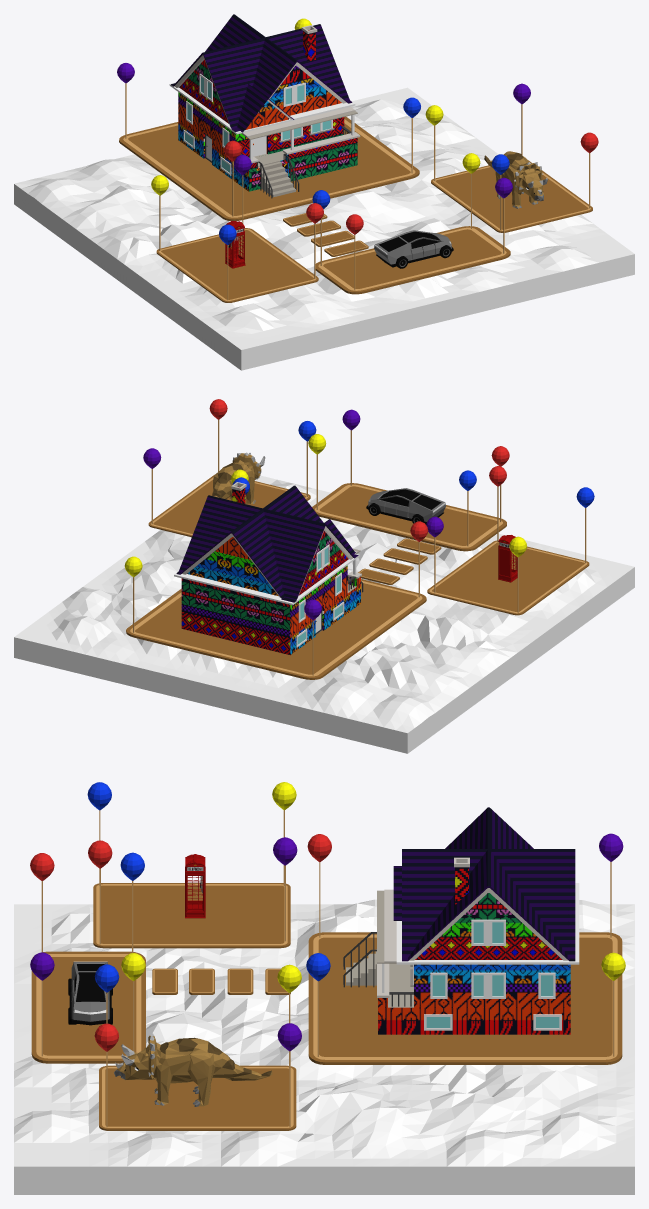
The picture shows the model from 3 angles, top to bottom: view 1: azimuth 30°, elevation 25°; view 2: azimuth 150°, elevation 25°; view 3: azimuth 270°, elevation 25°; orthographic projection. The views are drawn at different scales.
Visible parts, largest first — view 1: Cube.013, Cube.966, VEHICLES_CYBERTRUCK, ANIMAL_Triceratops, OBJRANDOM_PHONEBOOTH; view 2: Cube.013, Cube.966, VEHICLES_CYBERTRUCK, ANIMAL_Triceratops, OBJRANDOM_PHONEBOOTH; view 3: Cube.013, Cube.966, ANIMAL_Triceratops, VEHICLES_CYBERTRUCK, OBJRANDOM_PHONEBOOTH.
Part boxes in pixels (left/top/right/bottom): Cube.013: left=14, top=18, right=634, bottom=370; Cube.966: left=169, top=14, right=360, bottom=198; VEHICLES_CYBERTRUCK: left=374, top=230, right=453, bottom=268; ANIMAL_Triceratops: left=484, top=151, right=547, bottom=208; OBJRANDOM_PHONEBOOTH: left=225, top=221, right=245, bottom=268; Cube.013: left=14, top=399, right=634, bottom=753; Cube.966: left=174, top=482, right=363, bottom=655; VEHICLES_CYBERTRUCK: left=366, top=488, right=445, bottom=524; ANIMAL_Triceratops: left=212, top=452, right=265, bottom=503; OBJRANDOM_PHONEBOOTH: left=498, top=535, right=517, bottom=582; Cube.013: left=14, top=782, right=634, bottom=1194; Cube.966: left=343, top=807, right=579, bottom=1034; ANIMAL_Triceratops: left=114, top=1033, right=272, bottom=1106; VEHICLES_CYBERTRUCK: left=68, top=961, right=112, bottom=1025; OBJRANDOM_PHONEBOOTH: left=185, top=854, right=205, bottom=918.
Size of the model in its own units: 4000 by 1691 by 4000.
Materials: 43 (5 with a texture image).
